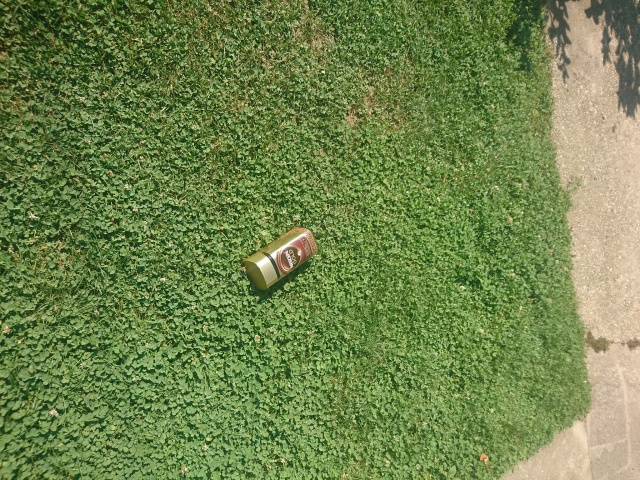Nescafe Gold 225g: (238, 224, 322, 293)
